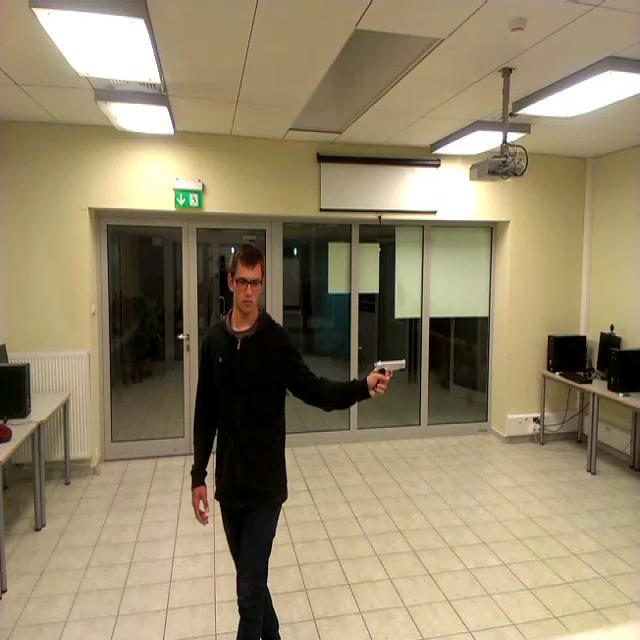Gun: (374, 358, 406, 391)
